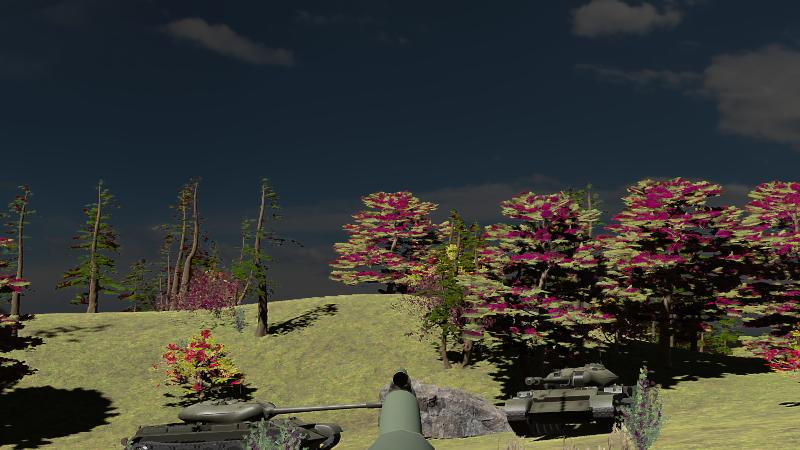Tank: (122, 394, 384, 450), (121, 397, 377, 448), (506, 362, 633, 441)
